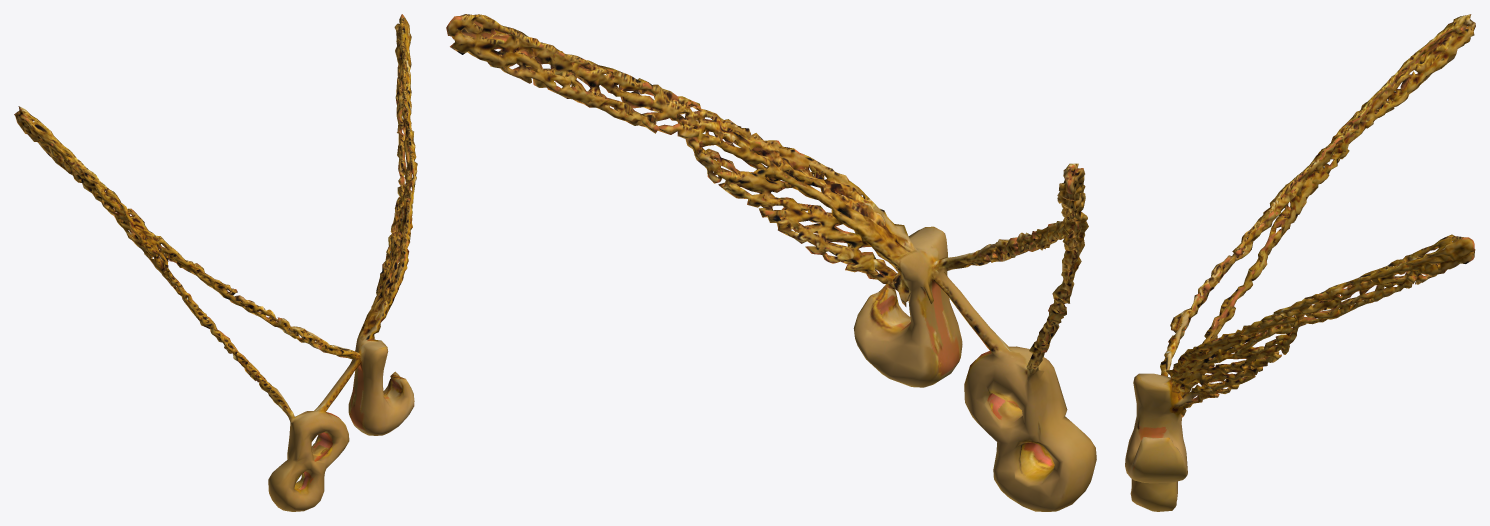
File: necklace.glb
3 renders of one model, left to right at view 1: azimuth 30°, elevation 25°; view 2: azimuth 150°, elevation 25°; view 3: azimuth 270°, elevation 25°, orthographic. The views are drawn at different scales.
Bounding box in the file's own units: 1.99 × 1.68 × 1.31.
Materials: 1 (1 with a texture image).
